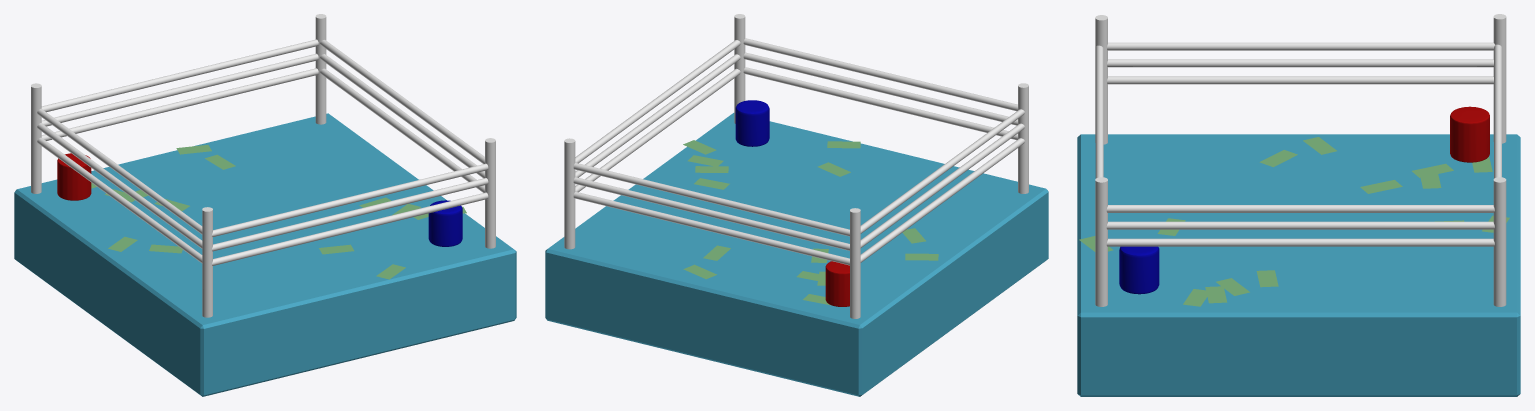
Rendered from ChickenFightGeo.fbx.
3 views of the same model, side by side, from view 1: azimuth 30°, elevation 25°; view 2: azimuth 150°, elevation 25°; view 3: azimuth 270°, elevation 25° (orthographic). The views are drawn at different scales.
Visible parts, largest first — view 1: chickenringego; view 2: chickenringego; view 3: chickenringego.
Part boxes in pixels (<box>): chickenringego: <box>14,14,516,396</box>; chickenringego: <box>545,14,1048,396</box>; chickenringego: <box>1077,14,1520,396</box>.
Bounding box in the file's own units: 83.54 × 44.84 × 86.28.
